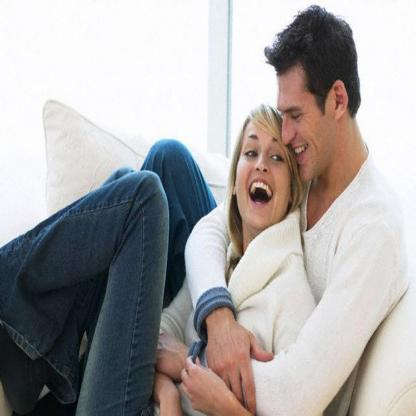face: (237, 117, 291, 227), (279, 74, 332, 184)
